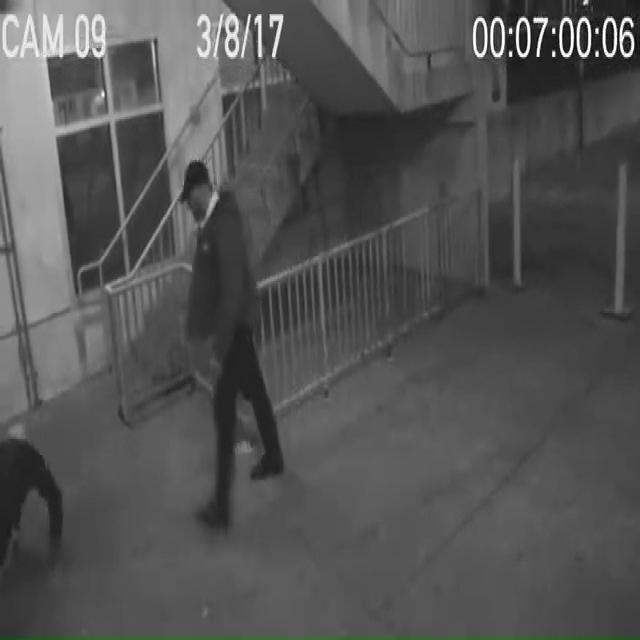fight: (178, 153, 290, 537), (1, 428, 63, 570)
